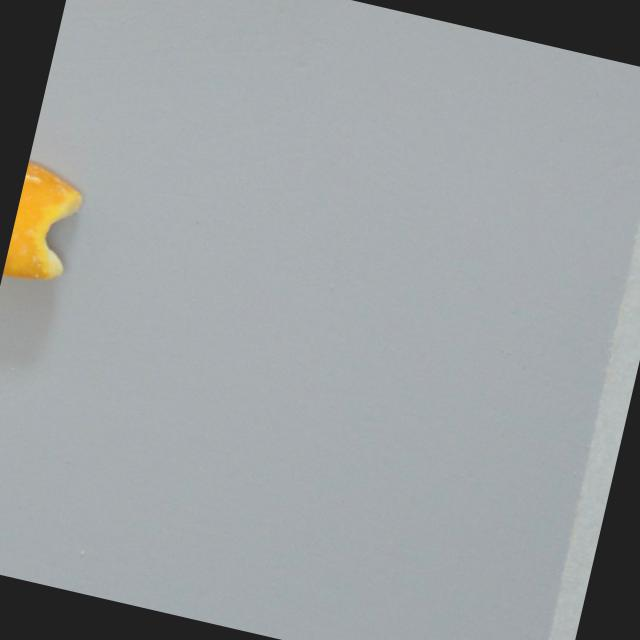dañado: (1, 154, 97, 294)
